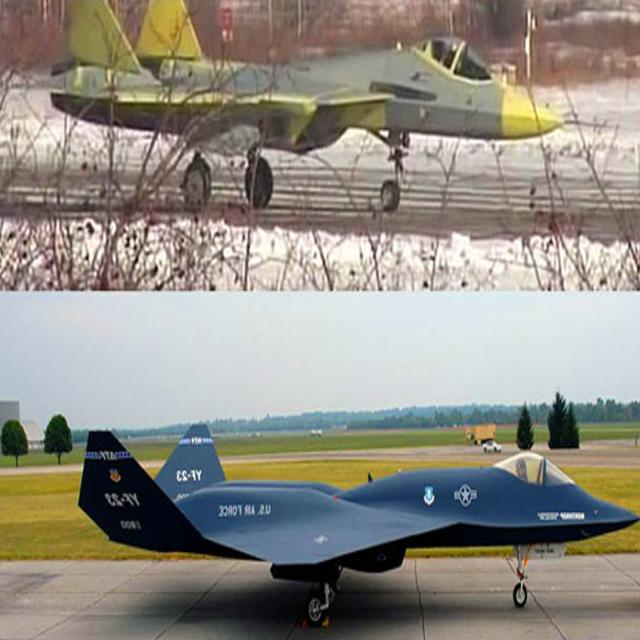MIL_Plane: (78, 424, 640, 626), (49, 1, 564, 211)
